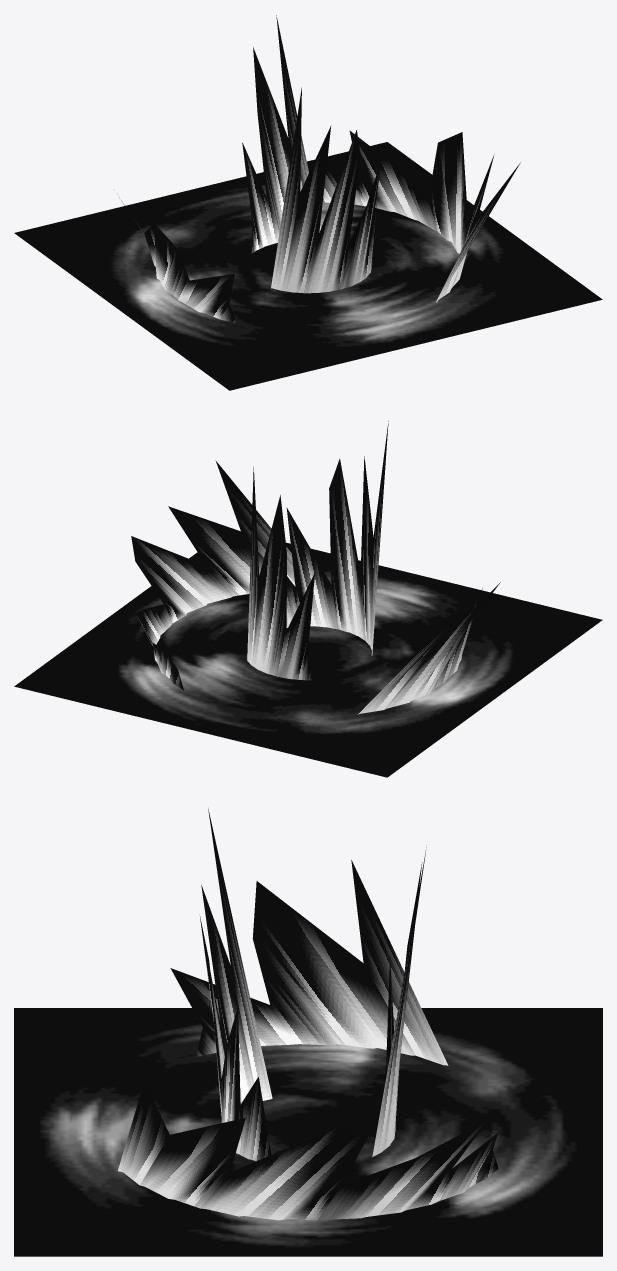
The model's file is EffCommonWhirlwindR.obj.
3 views of the same model, one above another, from view 1: azimuth 30°, elevation 25°; view 2: azimuth 150°, elevation 25°; view 3: azimuth 270°, elevation 25° (orthographic). The views are drawn at different scales.
Parts seen in each view (by area): view 1: polygon2, polygon0, polygon1; view 2: polygon2, polygon0, polygon1; view 3: polygon2, polygon1, polygon0.
Part boxes in pixels (x1,y1,x2,y2): polygon2: [14, 142, 602, 390]; polygon0: [242, 15, 381, 293]; polygon1: [119, 130, 520, 323]; polygon2: [14, 542, 602, 777]; polygon0: [247, 421, 388, 680]; polygon1: [131, 460, 500, 714]; polygon2: [14, 1008, 602, 1256]; polygon1: [118, 860, 498, 1220]; polygon0: [200, 809, 426, 1161].
Size of the model in its own units: 22 by 12.75 by 22.
Materials: 3 (3 with a texture image).
